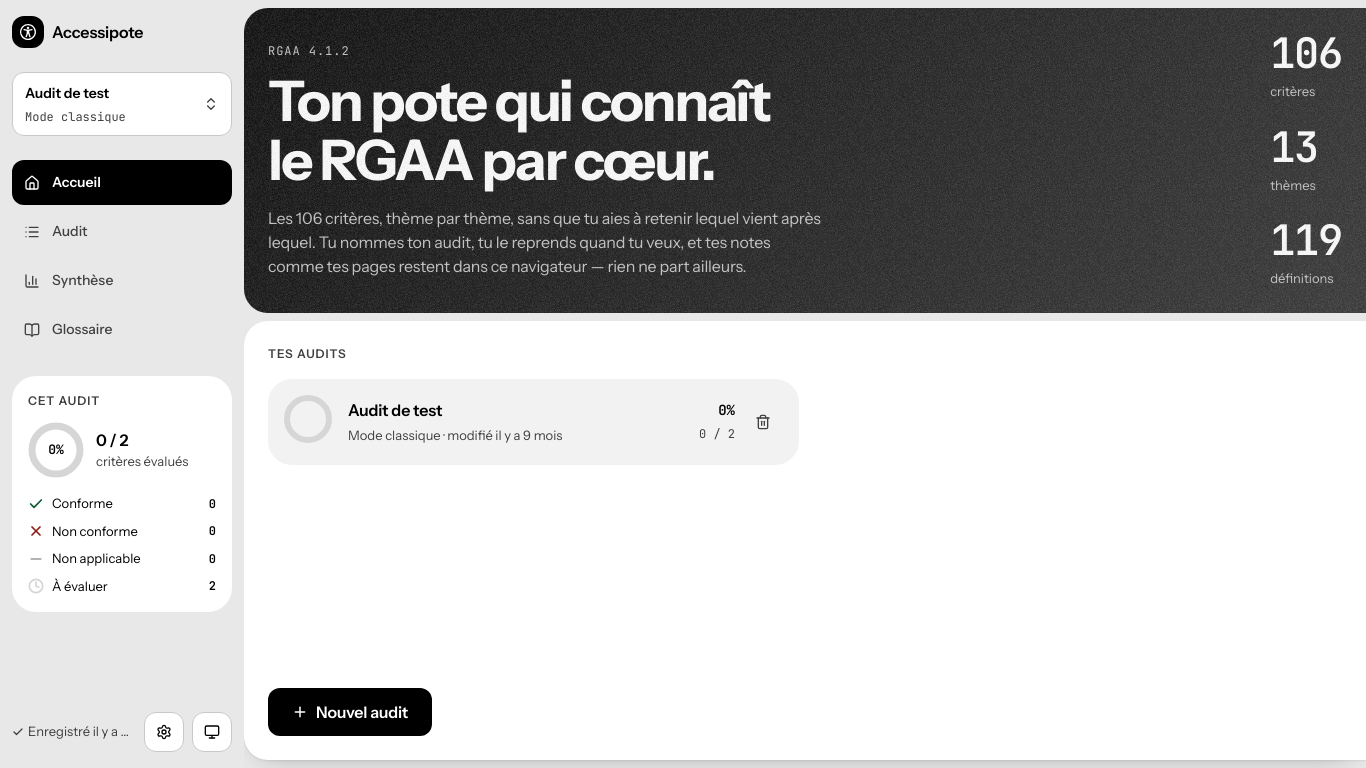
Test: App — cycle de vie d'un audit › ouvre un audit sur un thème de son périmètre, pas sur le premier du RGAA
This screenshot has width=1366, height=768.
Click the button "Audit" at (122, 232), box left=12, top=209, right=232, bottom=254
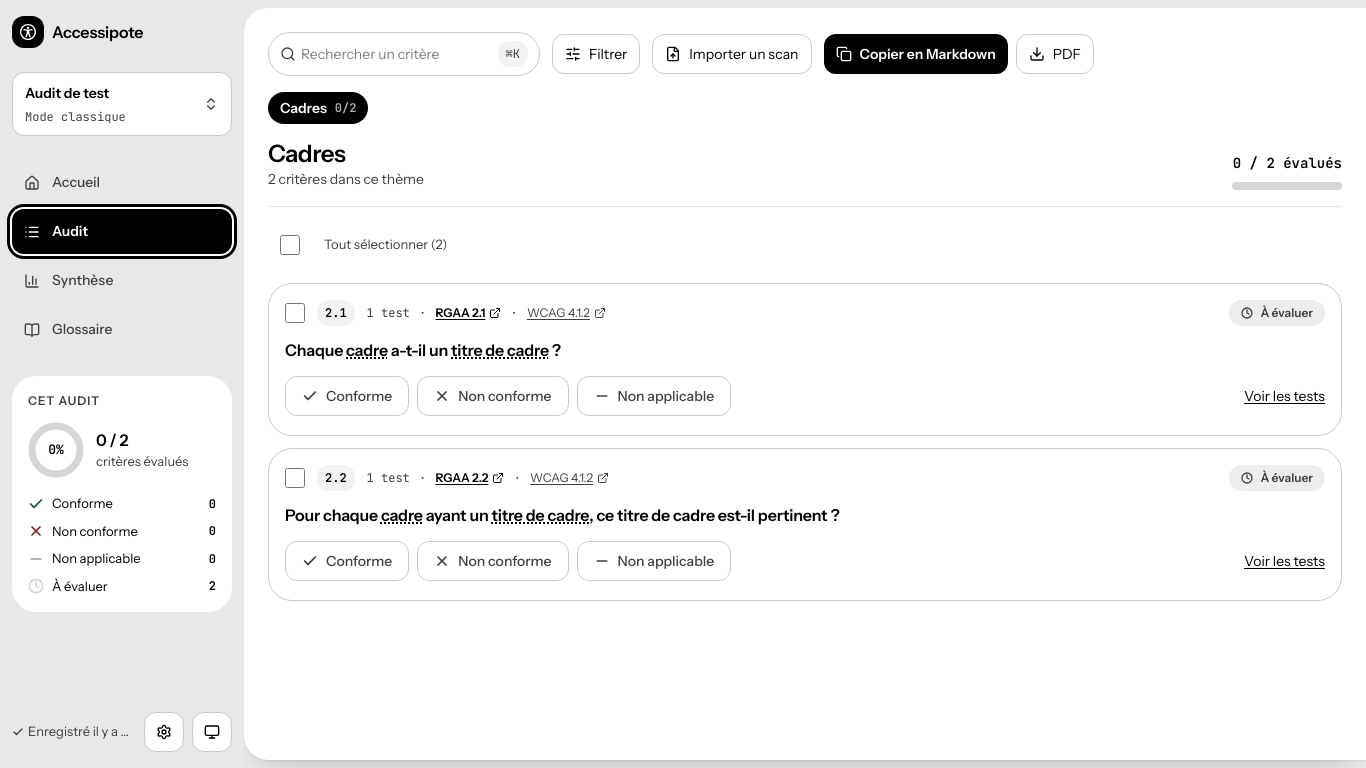
Result: the heading "Cadres" is shown at left=268, top=139, right=345, bottom=168
